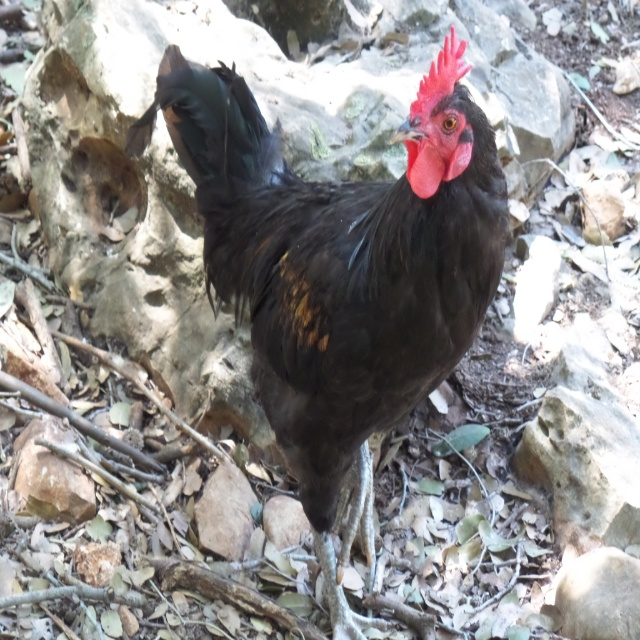Chicken: (143, 30, 517, 606)
